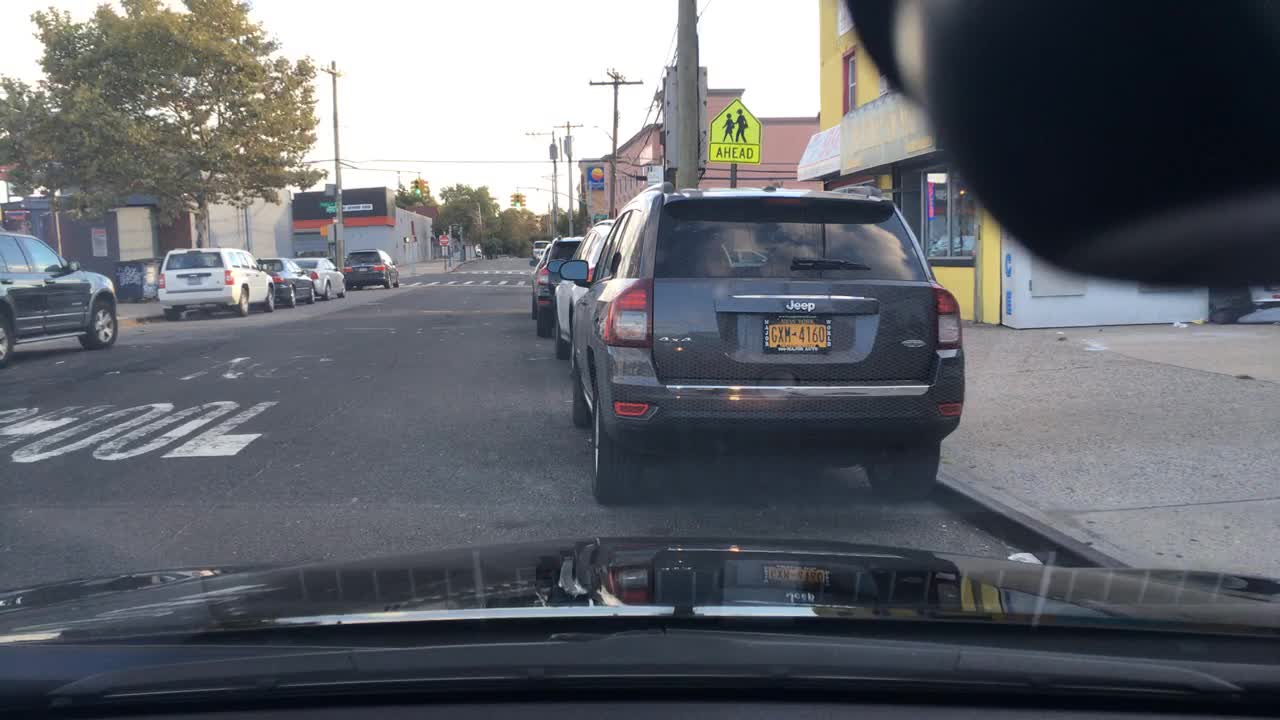car: (558, 182, 967, 503), (0, 229, 120, 368), (547, 217, 618, 359), (153, 245, 277, 318), (529, 234, 583, 335), (256, 256, 316, 307), (290, 257, 347, 301), (344, 247, 400, 290), (531, 238, 548, 259), (474, 243, 482, 257)
traffic light: (420, 179, 431, 197), (407, 181, 415, 198), (513, 192, 520, 208), (520, 194, 528, 208), (414, 179, 420, 197), (508, 193, 513, 207)
traffic sign: (705, 96, 762, 163), (318, 184, 335, 206), (326, 223, 344, 241), (927, 173, 947, 184), (325, 183, 336, 197), (438, 233, 449, 245), (325, 206, 335, 214), (591, 213, 607, 218), (441, 246, 448, 257)
